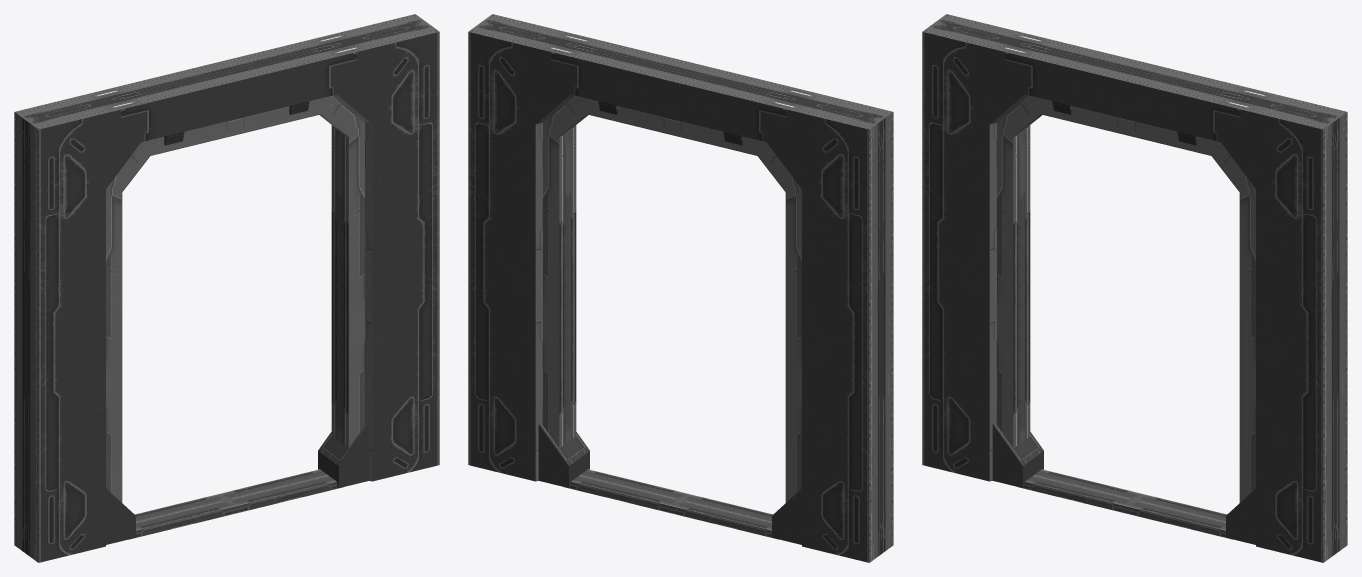
The model's file is door_frame_squaretall.gltf.
3 renders of one model, left to right at view 1: azimuth 30°, elevation 25°; view 2: azimuth 150°, elevation 25°; view 3: azimuth 330°, elevation 25°, orthographic.
Parts seen in each view (by area): view 1: Door_Frame_SquareTall; view 2: Door_Frame_SquareTall; view 3: Door_Frame_SquareTall.
Part boxes in pixels (x1,y1,x2,y2): Door_Frame_SquareTall: [14, 14, 439, 562]; Door_Frame_SquareTall: [468, 14, 893, 562]; Door_Frame_SquareTall: [922, 14, 1347, 562].
Bounding box in the file's own units: 4.84 × 5.01 × 0.5068.
Materials: 1 (1 with a texture image).
